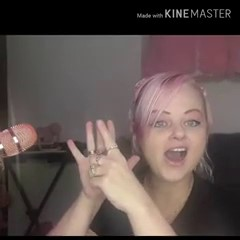I: (63, 119, 143, 212)
